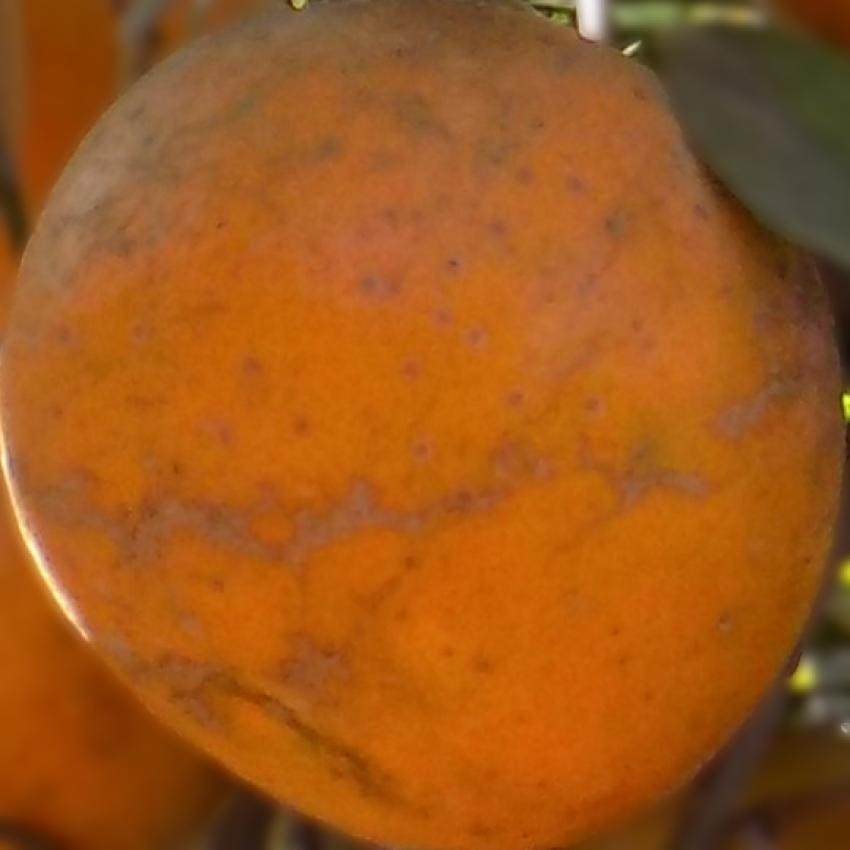Mal estado: (0, 2, 831, 848)
